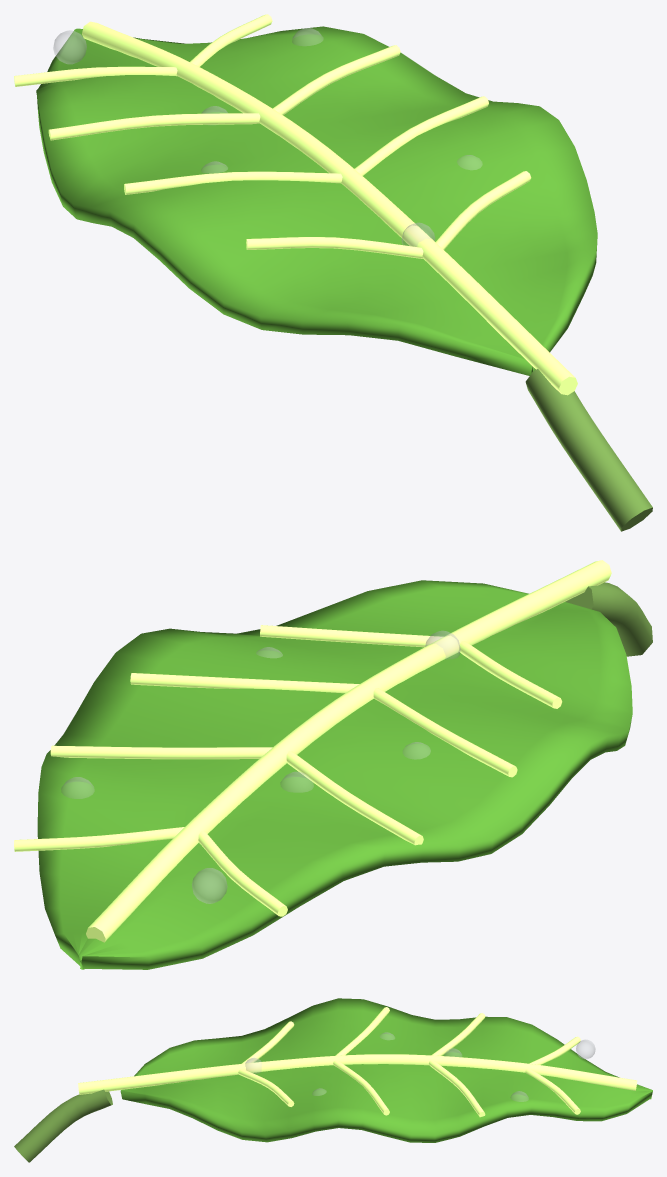
Rendered from E15_Giant_Leaf_Platform.glb.
3 views of the same model, one above another, from view 1: azimuth 30°, elevation 25°; view 2: azimuth 150°, elevation 25°; view 3: azimuth 270°, elevation 25° (orthographic). The views are drawn at different scales.
Parts seen in each view (by area): view 1: E15_Leaf_Mesh, E15_Giant_Leaf_Platform_Mesh; view 2: E15_Leaf_Mesh, E15_Giant_Leaf_Platform_Mesh; view 3: E15_Leaf_Mesh, E15_Giant_Leaf_Platform_Mesh.
Boxes of the visible parts, left/top/right/bottom form: E15_Leaf_Mesh: left=14, top=14, right=597, bottom=395; E15_Giant_Leaf_Platform_Mesh: left=53, top=28, right=652, bottom=531; E15_Leaf_Mesh: left=14, top=560, right=632, bottom=969; E15_Giant_Leaf_Platform_Mesh: left=61, top=582, right=652, bottom=903; E15_Leaf_Mesh: left=78, top=998, right=652, bottom=1142; E15_Giant_Leaf_Platform_Mesh: left=14, top=1032, right=595, bottom=1162.
Bounding box in the file's own units: 4.37 × 1.71 × 9.63.
